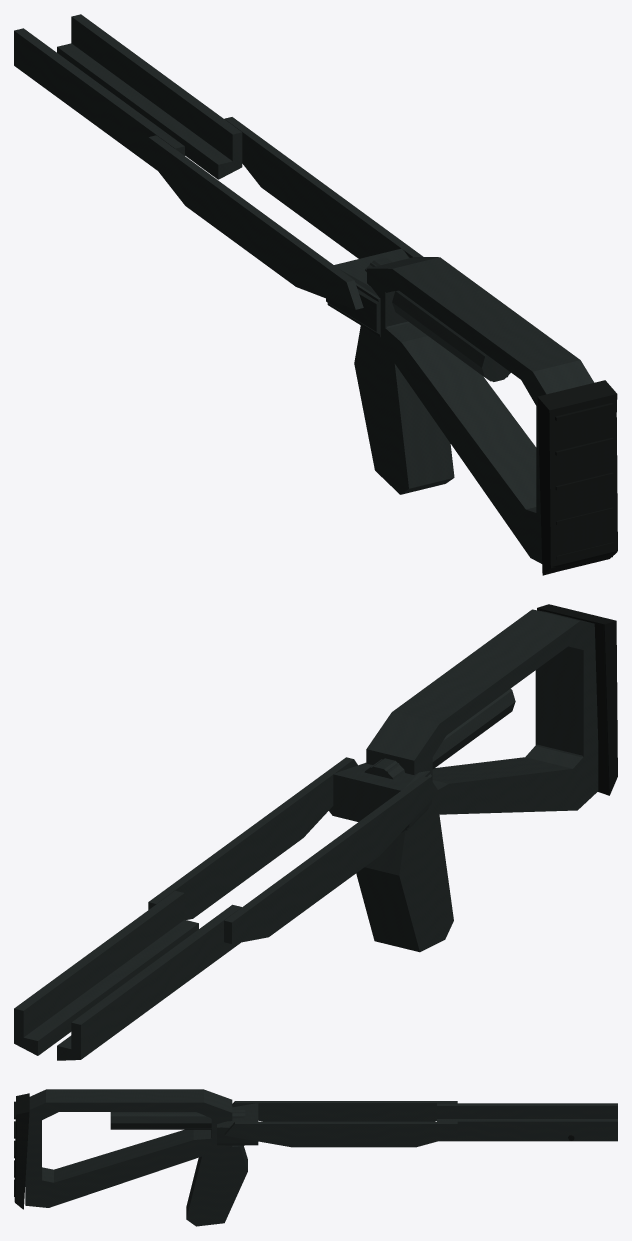
Rendered from sks_synthetic.glb.
3 views of the same model, one above another, from view 1: azimuth 30°, elevation 25°; view 2: azimuth 150°, elevation 25°; view 3: azimuth 270°, elevation 25° (orthographic). The views are drawn at different scales.
Visible parts, largest first — view 1: stock__sks_synthetic_LOD0_RAID_Secondary_Original_polymer, stock__sks_synthetic_LOD1_RAID_Secondary_Original_polymer, stock__sks_synthetic_LOD0_RAID_Secondary_Original_rubber, stock__sks_synthetic_LOD1_RAID_Secondary_Original_rubber; view 2: stock__sks_synthetic_LOD0_RAID_Secondary_Original_polymer, stock__sks_synthetic_LOD1_RAID_Secondary_Original_polymer, stock__sks_synthetic_LOD0_RAID_Secondary_Original_rubber, stock__sks_synthetic_LOD1_RAID_Secondary_Original_rubber; view 3: stock__sks_synthetic_LOD0_RAID_Secondary_Original_polymer, stock__sks_synthetic_LOD1_RAID_Secondary_Original_polymer, stock__sks_synthetic_LOD0_RAID_Secondary_Original_rubber, stock__sks_synthetic_LOD1_RAID_Secondary_Original_rubber.
Part boxes in pixels (x1,y1,x2,y2): stock__sks_synthetic_LOD0_RAID_Secondary_Original_polymer: [14, 14, 593, 562]; stock__sks_synthetic_LOD1_RAID_Secondary_Original_polymer: [14, 14, 593, 563]; stock__sks_synthetic_LOD0_RAID_Secondary_Original_rubber: [539, 381, 617, 573]; stock__sks_synthetic_LOD1_RAID_Secondary_Original_rubber: [537, 380, 617, 575]; stock__sks_synthetic_LOD0_RAID_Secondary_Original_polymer: [14, 609, 596, 1060]; stock__sks_synthetic_LOD1_RAID_Secondary_Original_polymer: [15, 609, 598, 1059]; stock__sks_synthetic_LOD0_RAID_Secondary_Original_rubber: [538, 605, 617, 794]; stock__sks_synthetic_LOD1_RAID_Secondary_Original_rubber: [537, 604, 617, 795]; stock__sks_synthetic_LOD0_RAID_Secondary_Original_polymer: [25, 1089, 617, 1224]; stock__sks_synthetic_LOD1_RAID_Secondary_Original_polymer: [25, 1089, 617, 1226]; stock__sks_synthetic_LOD0_RAID_Secondary_Original_rubber: [14, 1094, 574, 1209]; stock__sks_synthetic_LOD1_RAID_Secondary_Original_rubber: [15, 1093, 29, 1207].
Size of the model in its own units: 0.105 by 0.265 by 1.17.
Materials: 2 (2 with a texture image).
